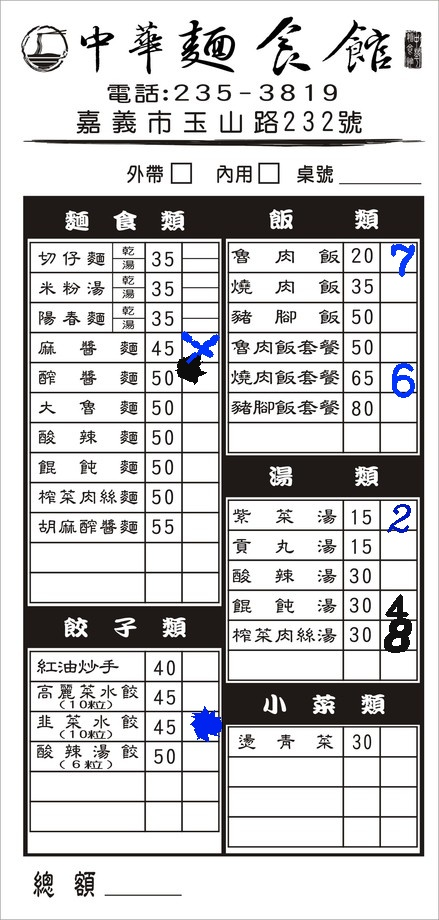marked_circle: (181, 711, 217, 740), (182, 362, 218, 391)
marked_number_2: (381, 500, 417, 529)
marked_number_4: (380, 589, 416, 618)
marked_number_6: (381, 360, 417, 389)
marked_number_7: (381, 242, 417, 271)
marked_number_8: (380, 619, 416, 648)
marked_x: (182, 332, 218, 361)
